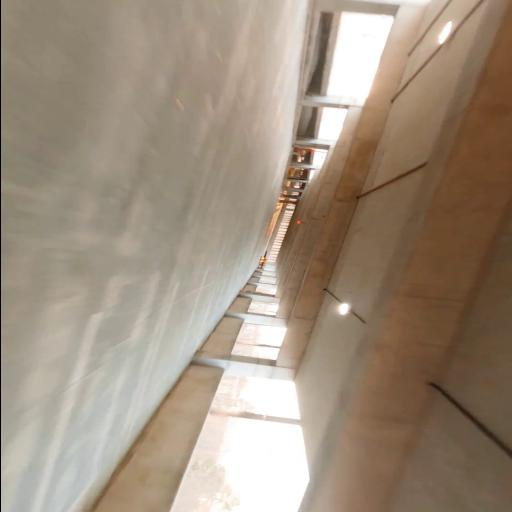uav: (246, 250, 274, 274)
